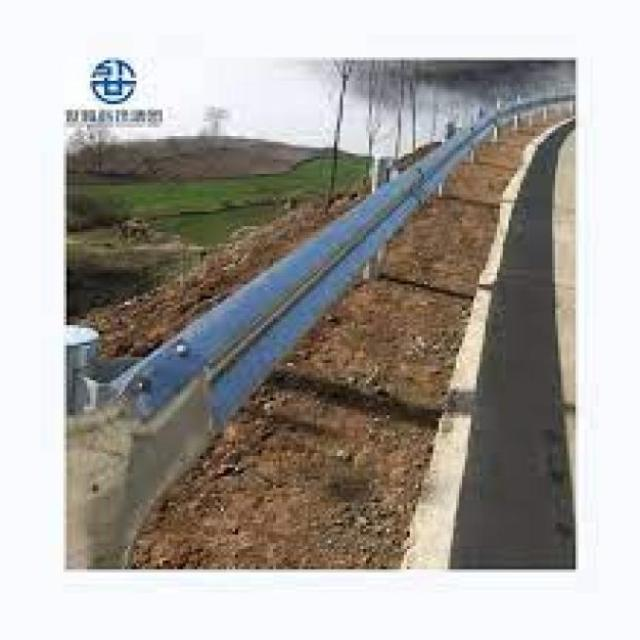Guard rail: (68, 116, 497, 560)
